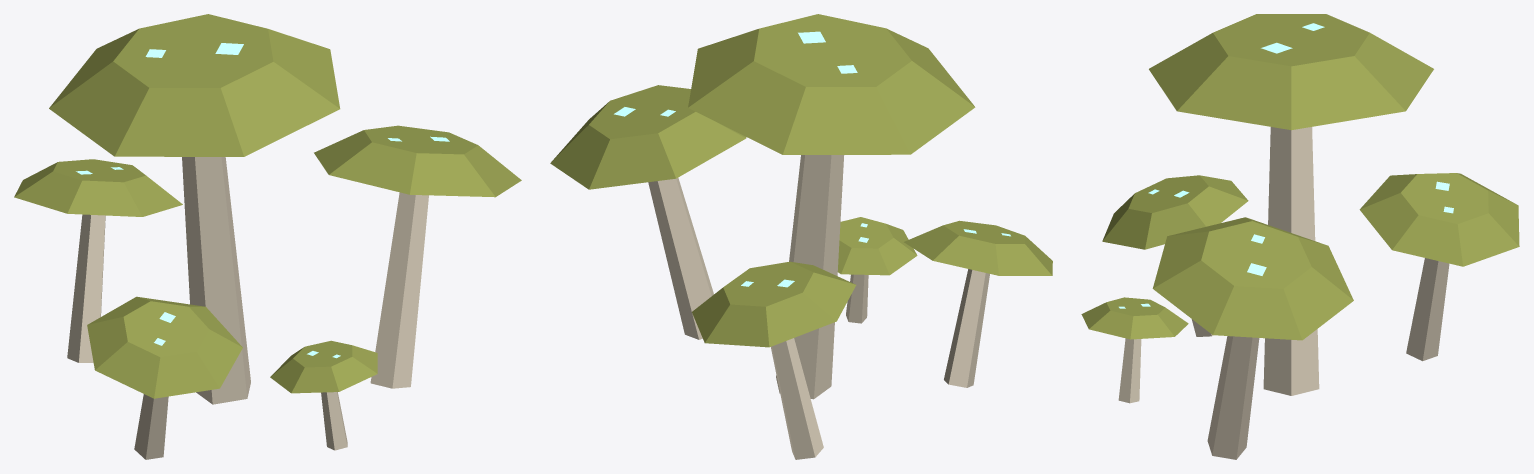
Rendered from Veg_GlowCap_B.fbx.
The picture shows the model from 3 angles, left to right: view 1: azimuth 30°, elevation 25°; view 2: azimuth 150°, elevation 25°; view 3: azimuth 270°, elevation 25°; orthographic projection. The views are drawn at different scales.
Parts seen in each view (by area): view 1: Veg_GlowCap_B; view 2: Veg_GlowCap_B; view 3: Veg_GlowCap_B.
Boxes of the visible parts, left/top/right/bottom form: Veg_GlowCap_B: left=14, top=14, right=521, bottom=459; Veg_GlowCap_B: left=550, top=14, right=1052, bottom=459; Veg_GlowCap_B: left=1081, top=14, right=1519, bottom=459.
Bounding box in the file's own units: 1.54 × 1.17 × 1.35.
